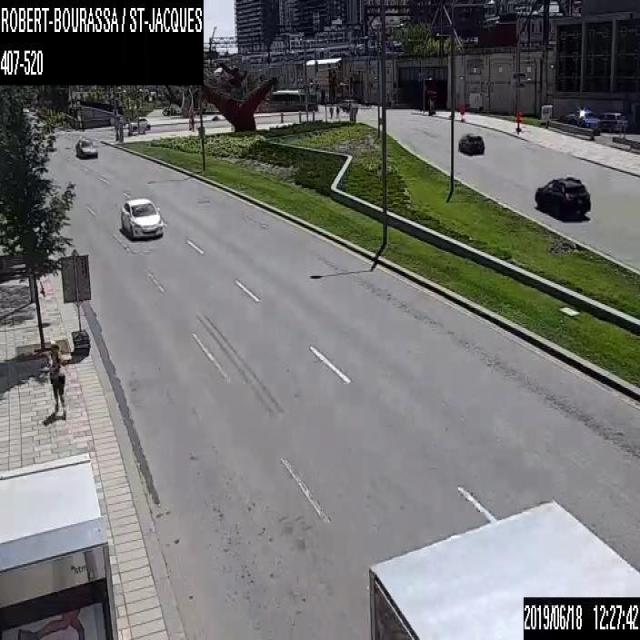bus: (268, 88, 316, 108)
construction: (514, 108, 522, 132), (458, 105, 464, 123)
pedestrian: (48, 338, 66, 418)
vehicle: (367, 496, 639, 639), (521, 593, 639, 639), (533, 173, 591, 216), (119, 196, 163, 239), (574, 107, 600, 134), (456, 130, 484, 154), (600, 111, 626, 132), (75, 136, 96, 157), (130, 115, 151, 128)
